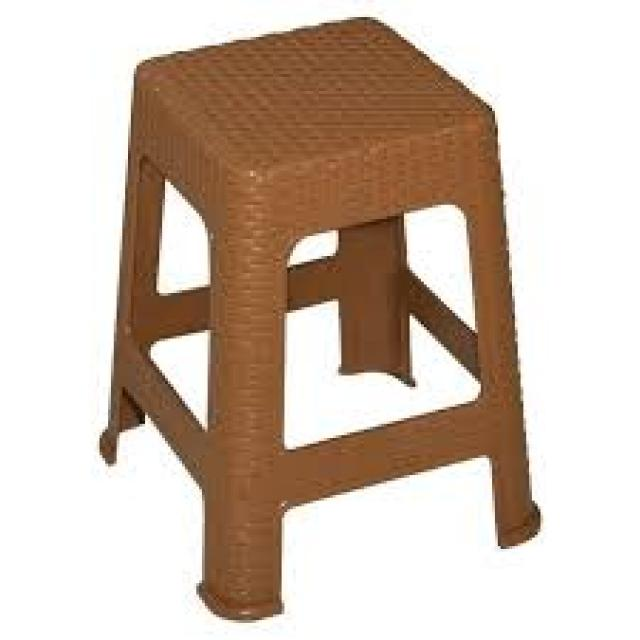chair: (80, 0, 561, 640)
